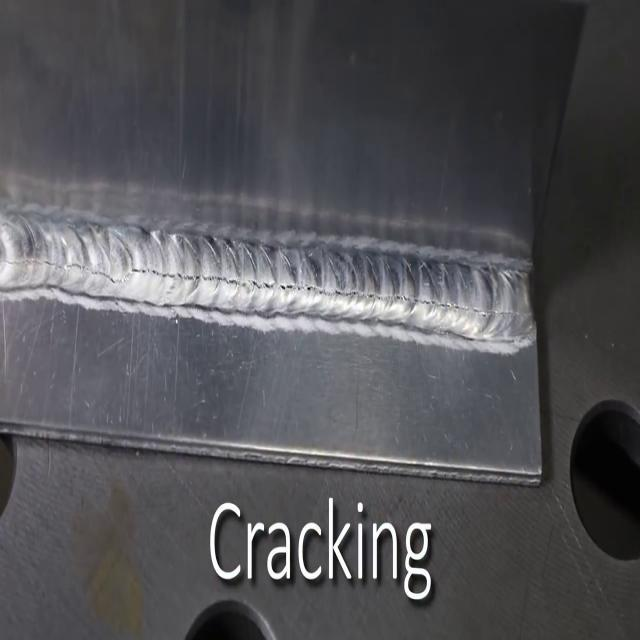Bad Weld: (0, 206, 542, 358)
Defect: (2, 250, 538, 326)
